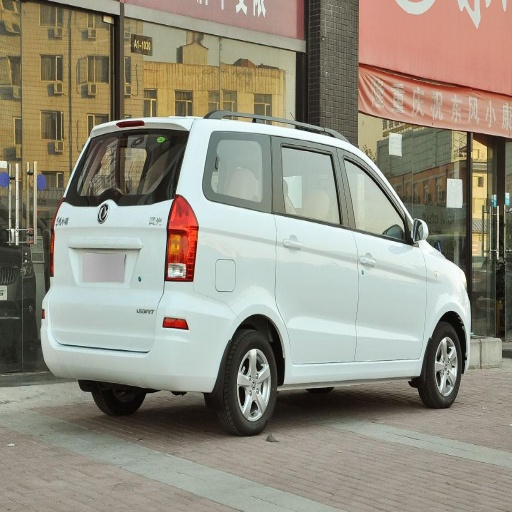back_bumper: (41, 279, 234, 385)
back_right_door: (206, 130, 357, 364)
trunk: (53, 201, 174, 348)
